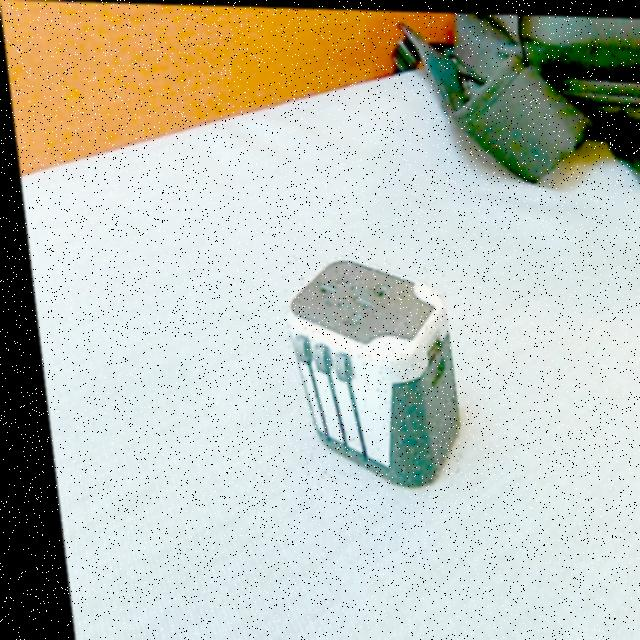adapter: (271, 253, 457, 487)
